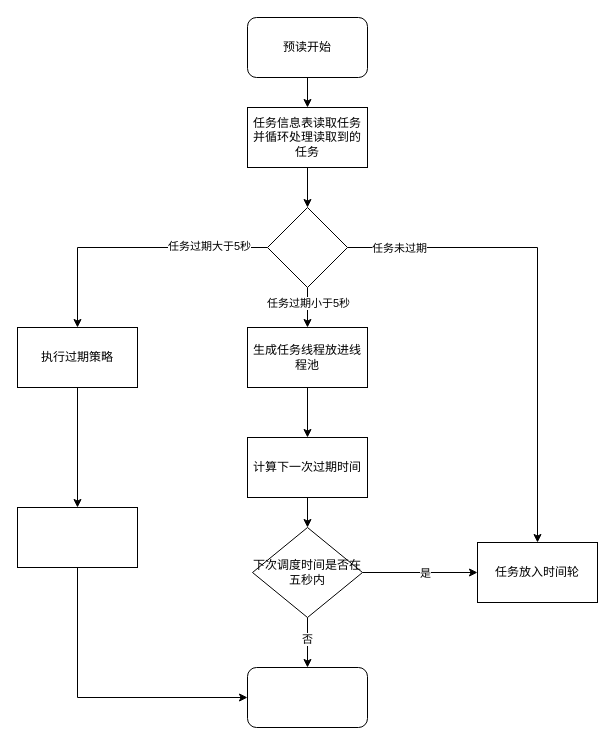
Image size: 615x745. Some labels were removed from this diagram. Each missing label, with the centre of its shape:
判断任务过期: pixel 307 247
计算下一次过期时间更新任务信息表: pixel 77 537
预读结束: pixel 307 697
